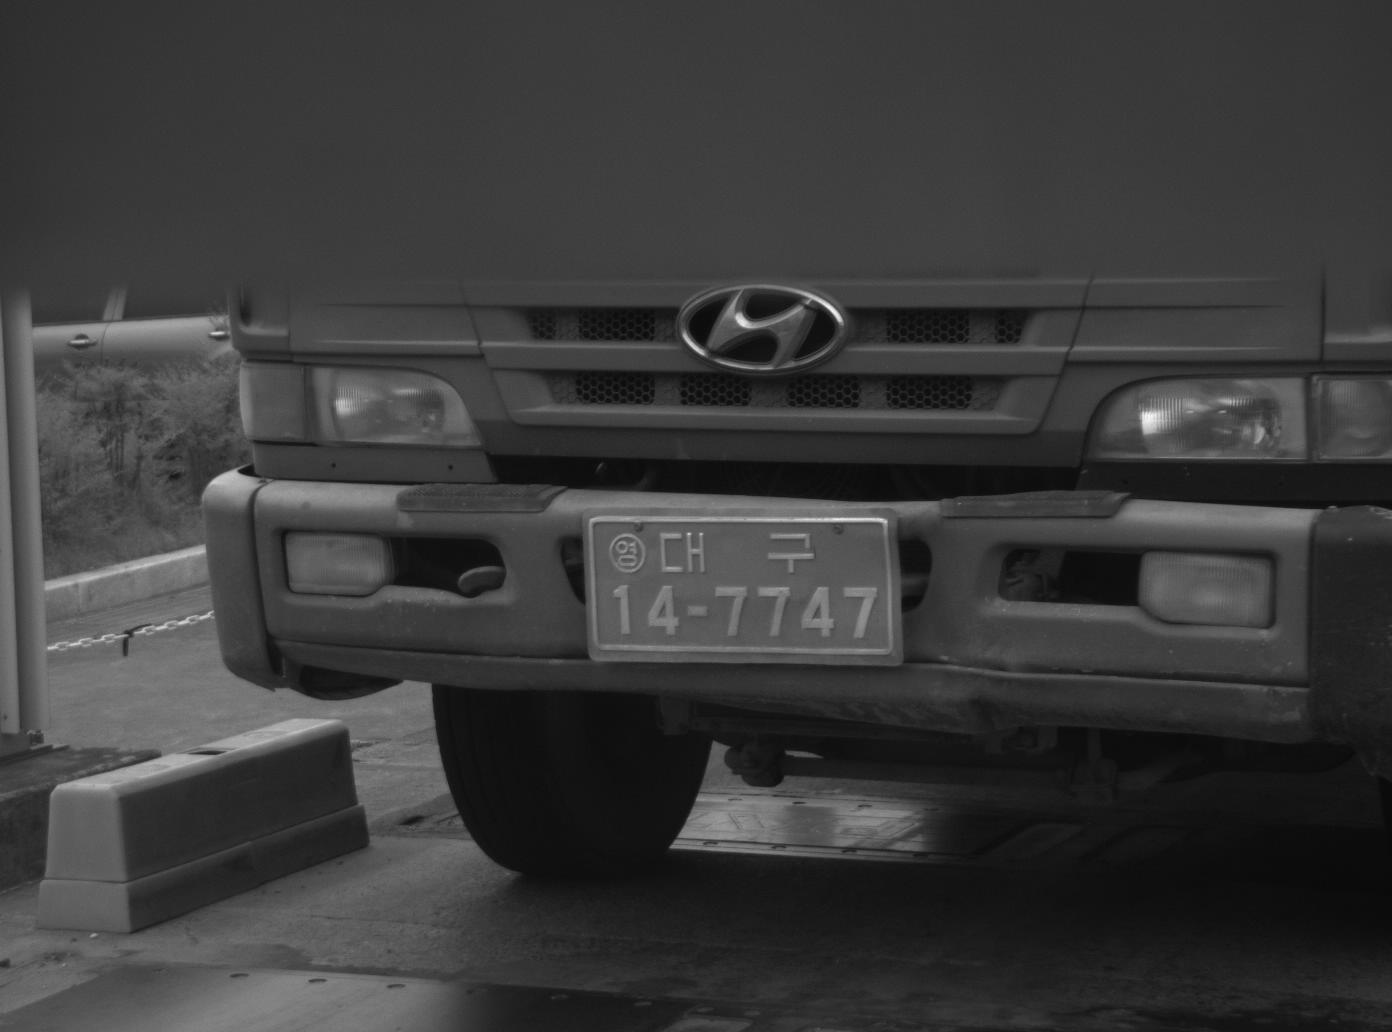car: (196, 233, 1387, 884)
plate: (583, 507, 900, 664)
